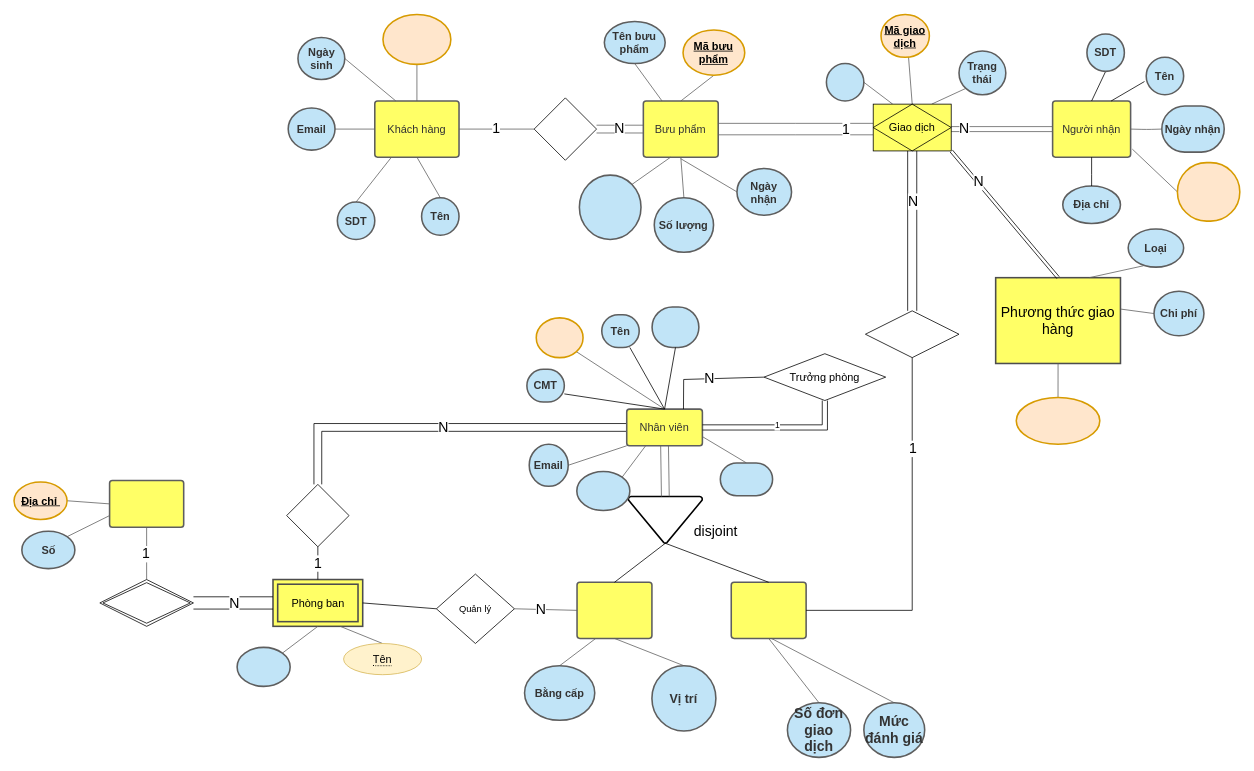
This 1254x771 diagram has some shape labels left out. Each missing label, with the box of its shape:
Chi nhánh: (108, 479, 184, 528)
Chức năng: (236, 646, 291, 687)
Giới tính: (651, 306, 699, 348)
Gồm: (99, 579, 193, 626)
ISA: (627, 495, 703, 544)
Kiểu NV: (576, 470, 630, 511)
Mã khách hàng: (382, 13, 451, 65)
Mã người nhận: (1176, 161, 1240, 222)
Mã NV: (535, 317, 583, 358)
Mã phương thức: (1015, 396, 1100, 445)
Mức lương: (719, 462, 773, 496)
Ngày giao: (825, 62, 864, 101)
Nhân viên văn phòng: (576, 581, 652, 639)
Nhân viên vận chuyển: (730, 581, 807, 639)
Sở hữu: (533, 97, 597, 160)
Thuộc: (286, 484, 349, 547)
Thực hiện: (865, 310, 959, 358)
Đặc điểm: (578, 174, 641, 240)
